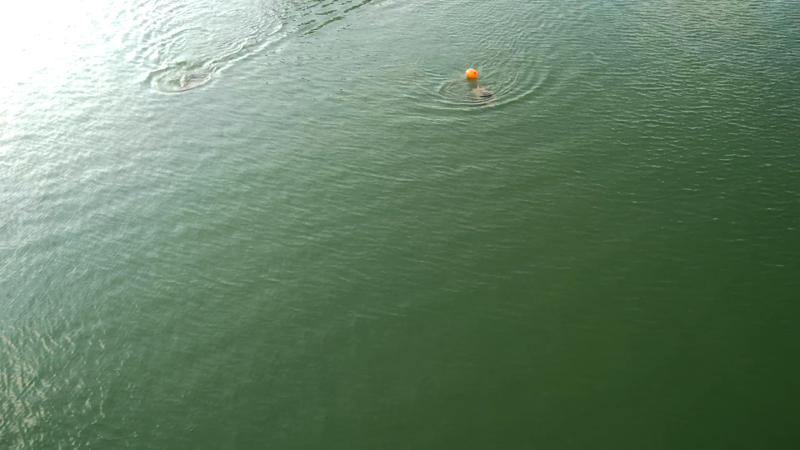swimmers: (468, 83, 499, 108)
